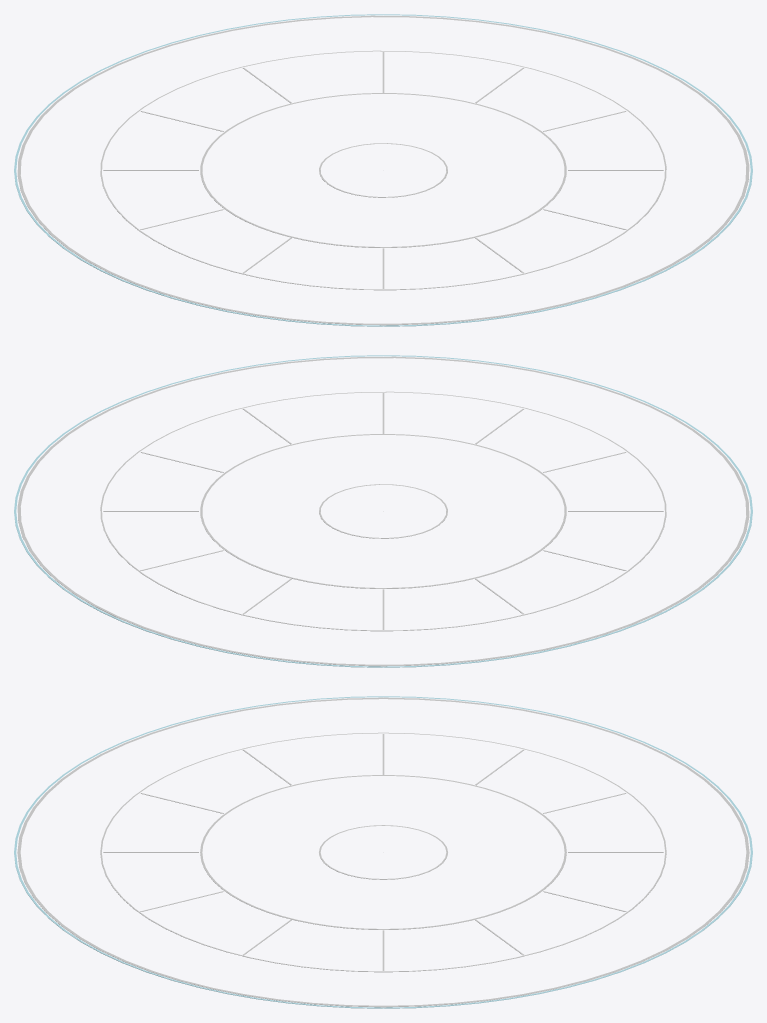
Rendered from FrostArena.glb.
The picture shows the model from 3 angles, top to bottom: view 1: azimuth 30°, elevation 25°; view 2: azimuth 150°, elevation 25°; view 3: azimuth 270°, elevation 25°; orthographic projection.
Visible parts, largest first — view 1: Body, Glow; view 2: Body, Glow; view 3: Body, Glow.
Boxes of the visible parts, x1=… form: Body: x1=17, y1=15, x2=749, y2=325; Glow: x1=14, y1=14, x2=752, y2=326; Body: x1=17, y1=356, x2=749, y2=666; Glow: x1=14, y1=355, x2=752, y2=667; Body: x1=17, y1=697, x2=749, y2=1007; Glow: x1=14, y1=696, x2=752, y2=1008.
Size of the model in its own units: 162 by 0.07 by 162.
